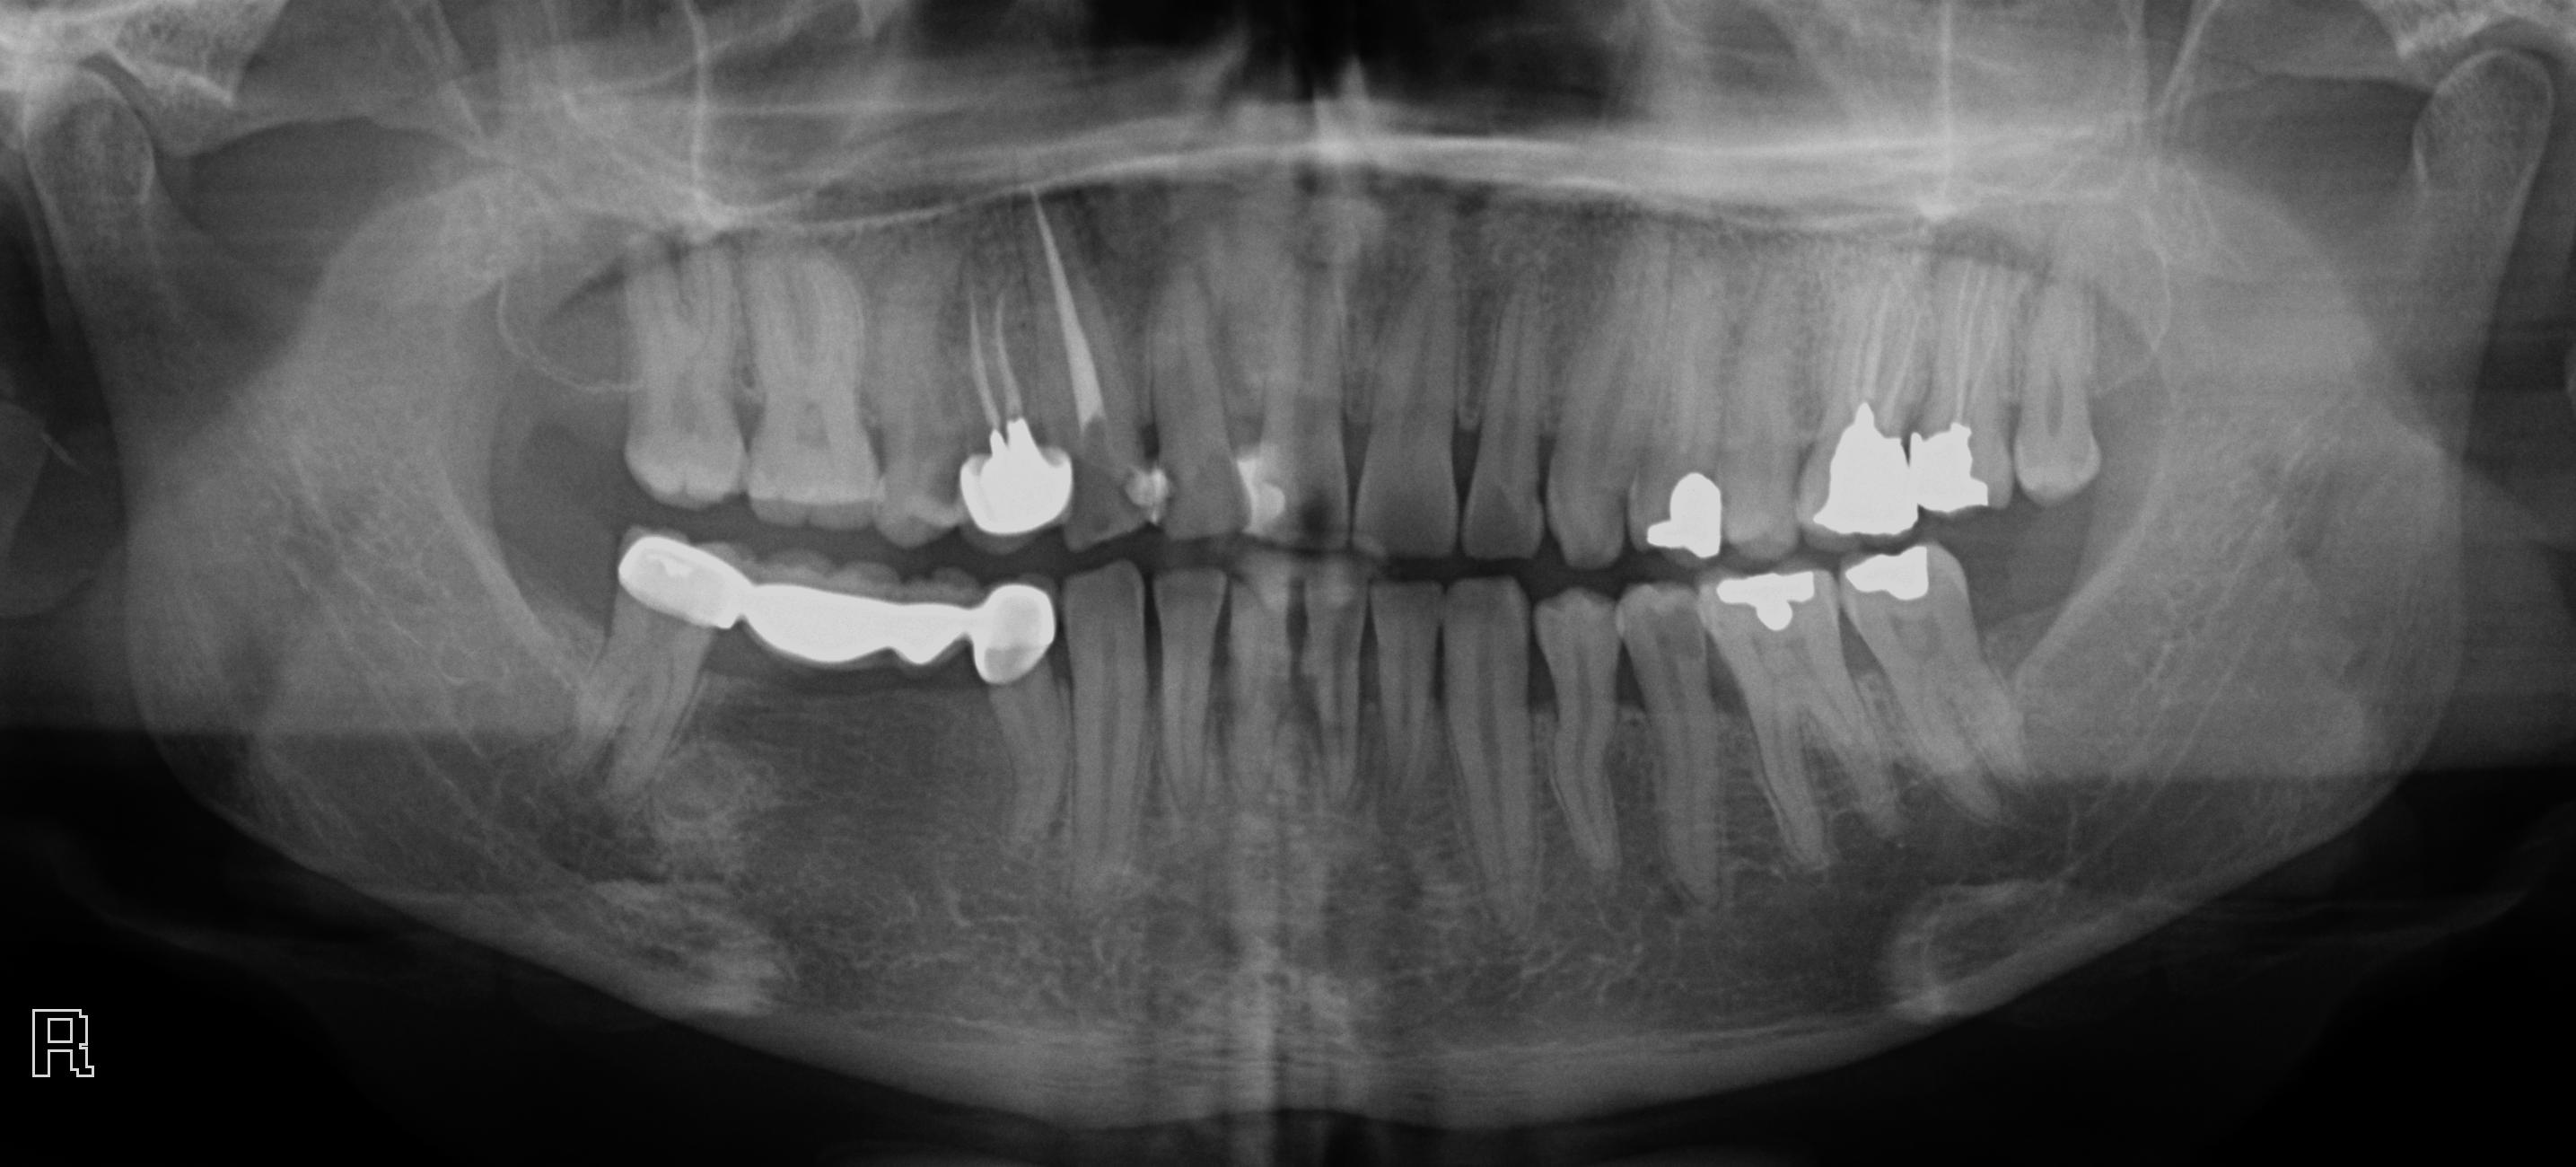Çürük: (616, 526, 743, 639), (1809, 409, 1911, 536), (954, 439, 1068, 533), (1640, 475, 1732, 560), (969, 590, 1051, 674), (1917, 422, 1985, 519), (1707, 579, 1825, 631), (1843, 547, 1948, 600), (1127, 460, 1166, 528)
Çürük Bölgesi: (1666, 623, 1705, 662), (1165, 459, 1184, 524), (1106, 468, 1127, 528)
